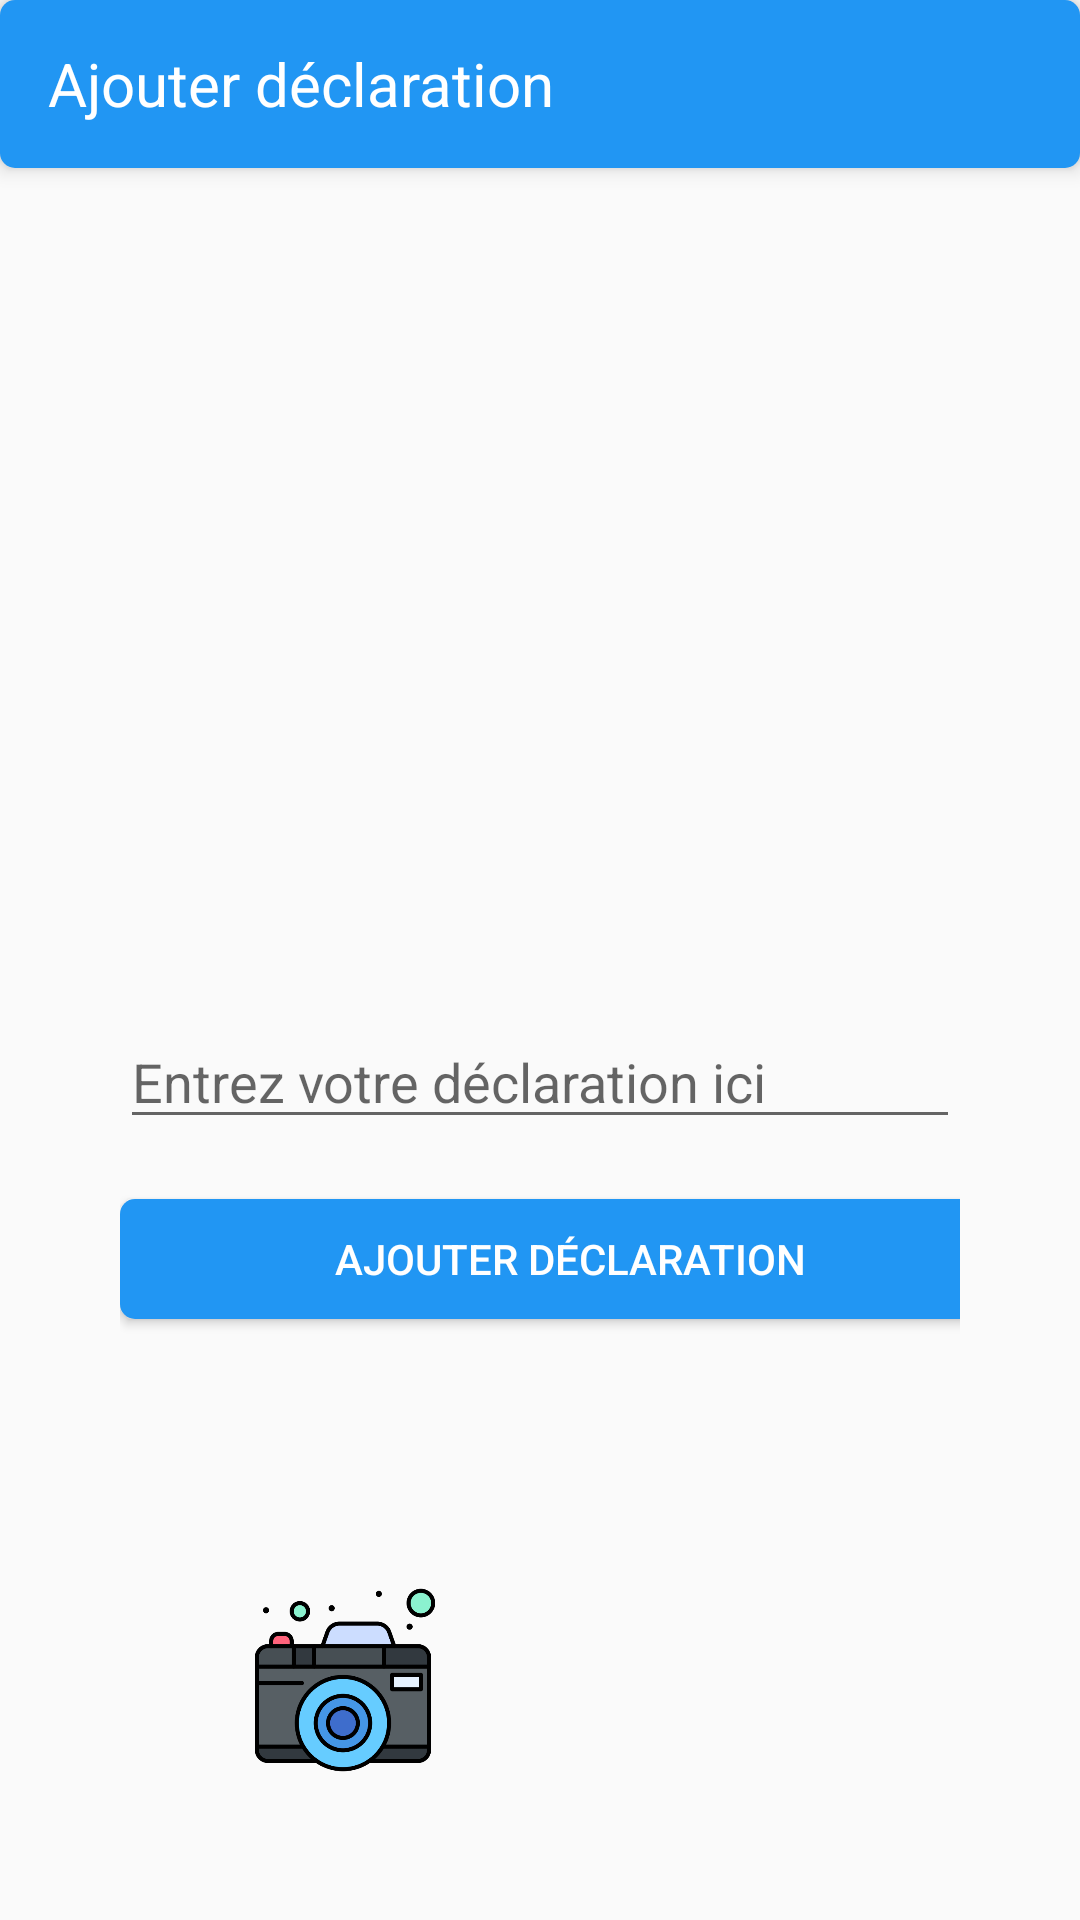

Icons on this 1080 x 1920 Android screen, each with its box as (x1, y1, x2, y2):
camera: (255, 1588, 435, 1772)
